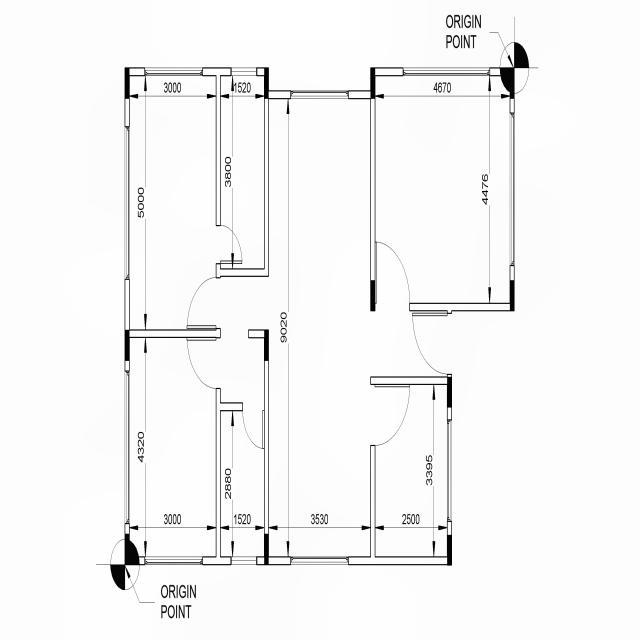Column: (124, 534, 130, 566), (370, 280, 376, 312), (370, 67, 376, 99), (124, 67, 130, 99), (124, 330, 130, 361), (264, 534, 269, 566), (447, 534, 452, 566), (264, 329, 269, 361), (264, 67, 269, 99), (447, 378, 452, 408), (510, 280, 514, 311), (500, 68, 514, 76), (130, 556, 140, 566), (510, 76, 514, 99)
Door: (412, 310, 452, 378), (370, 384, 410, 446), (375, 242, 410, 312), (187, 278, 220, 330), (187, 337, 220, 389), (242, 402, 265, 449), (216, 224, 242, 264)
Window: (124, 370, 130, 524), (124, 126, 130, 280), (402, 68, 490, 76), (510, 112, 514, 266), (290, 556, 349, 566), (144, 556, 203, 566), (290, 90, 349, 100), (447, 419, 452, 522), (144, 68, 203, 76), (230, 556, 258, 566), (230, 68, 258, 76)
